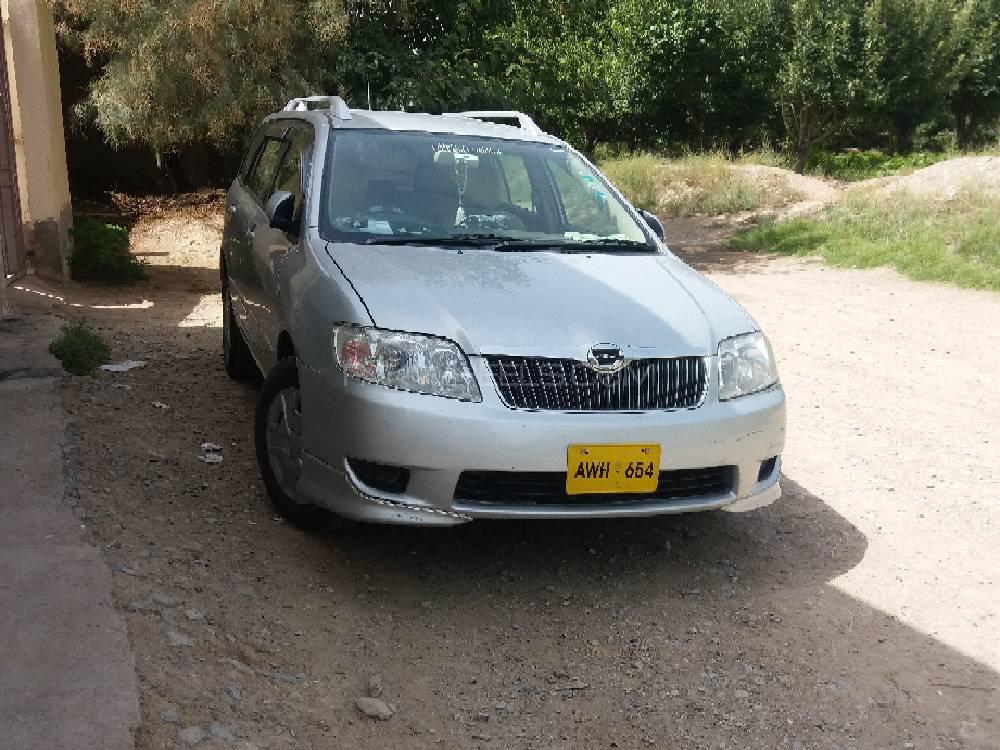license plate: (565, 446, 660, 492)
